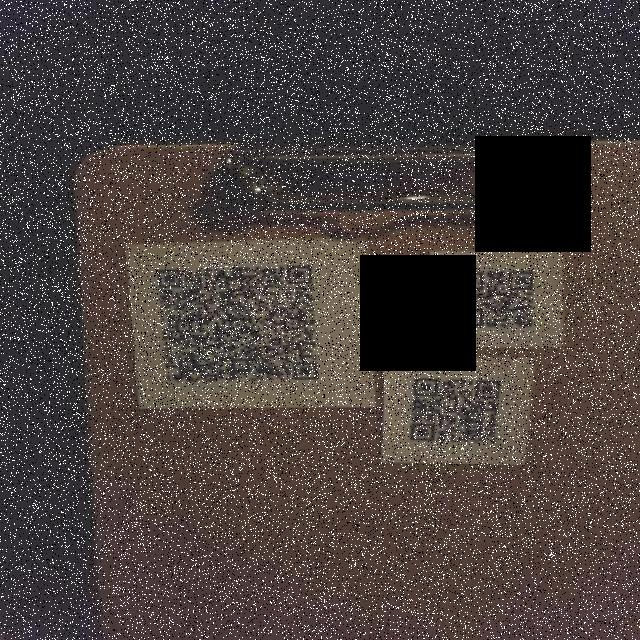QR_CODE: (146, 248, 328, 392), (393, 369, 508, 455), (445, 258, 550, 340)
